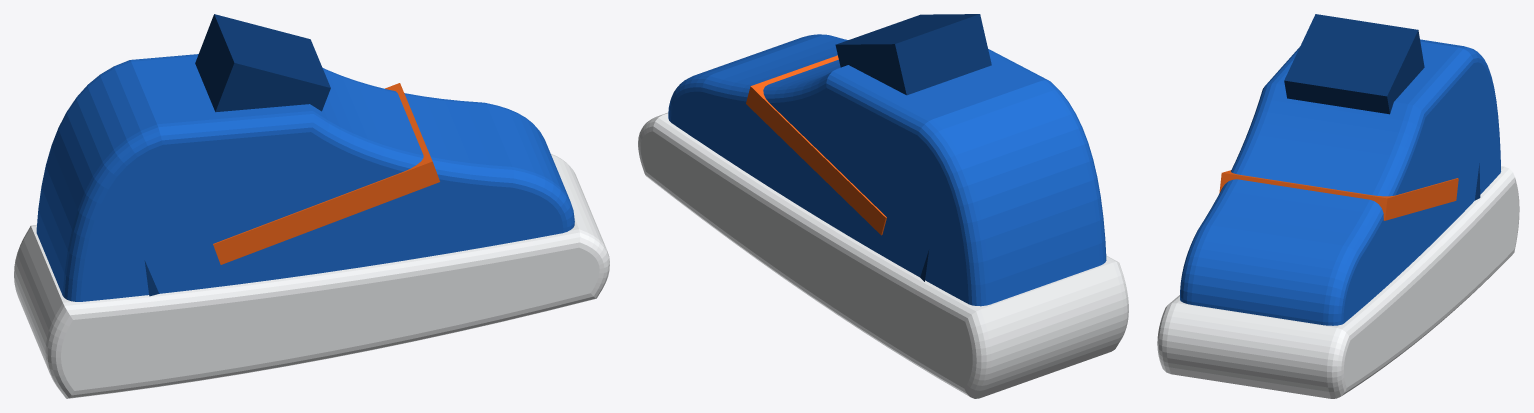
Rendered from fashion-shoe.glb.
3 views of the same model, side by side, from view 1: azimuth 30°, elevation 25°; view 2: azimuth 150°, elevation 25°; view 3: azimuth 270°, elevation 25° (orthographic). The views are drawn at different scales.
Visible parts, largest first — view 1: FashionSneaker; view 2: FashionSneaker; view 3: FashionSneaker.
Part boxes in pixels (left/top/right/bottom): FashionSneaker: left=14, top=14, right=609, bottom=398; FashionSneaker: left=638, top=14, right=1128, bottom=398; FashionSneaker: left=1157, top=14, right=1519, bottom=398.
Size of the model in its own units: 1.85 by 1.04 by 1.19.
